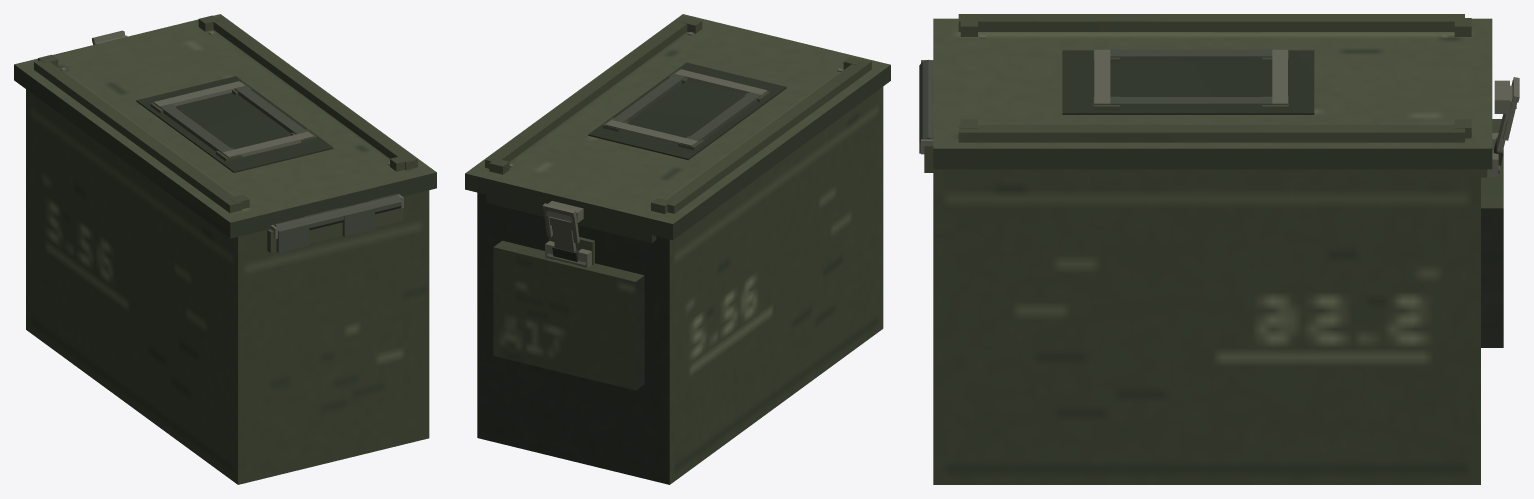
File: military_ammo_can.obj
3 renders of one model, left to right at view 1: azimuth 30°, elevation 25°; view 2: azimuth 150°, elevation 25°; view 3: azimuth 270°, elevation 25°, orthographic. The views are drawn at different scales.
Parts seen in each view (by area): view 1: box, lid, Low_stacking_runner, Shallow_handle_bed, Fixed_hinge_leaf, Hinge_mounting_plate_-_fixed, Lid_knuckle, Handle_left_leaf, Handle_right_leaf, Handle_crossbar_at_rear, Handle_crossbar_at_front, Stacking_corner_stop (+1 smaller); view 2: box, lid, Low_stacking_runner, Shallow_handle_bed, Handle_left_leaf, Handle_right_leaf, Stacking_corner_stop, Handle_crossbar_at_front, Handle_crossbar_at_rear, Latch___over-centre_lever; view 3: box, lid, Low_stacking_runner, Shallow_handle_bed, Handle_left_leaf, Handle_right_leaf, Stacking_corner_stop, Handle_crossbar_at_rear, Handle_crossbar_at_front.
Boxes of the visible parts, box(x1,y1,x2,y2) form: box: box(26, 89, 429, 484); lid: box(14, 14, 436, 238); Low_stacking_runner: box(34, 16, 417, 212); Shallow_handle_bed: box(136, 76, 333, 172); Fixed_hinge_leaf: box(276, 211, 374, 252); Hinge_mounting_plate_-_fixed: box(267, 208, 403, 252); Lid_knuckle: box(305, 194, 401, 230); Handle_left_leaf: box(153, 102, 238, 157); Handle_right_leaf: box(234, 86, 314, 139); Handle_crossbar_at_rear: box(222, 131, 313, 157); Handle_crossbar_at_front: box(154, 81, 244, 106); Stacking_corner_stop: box(38, 15, 409, 209); box: box(477, 86, 883, 484); lid: box(465, 14, 890, 242); Low_stacking_runner: box(485, 15, 871, 213); Shallow_handle_bed: box(588, 62, 786, 160); Handle_left_leaf: box(681, 92, 760, 146); Handle_right_leaf: box(605, 74, 685, 127); Stacking_corner_stop: box(489, 17, 863, 213); Handle_crossbar_at_front: box(606, 120, 697, 145); Handle_crossbar_at_rear: box(675, 69, 767, 95); Latch___over-centre_lever: box(552, 225, 576, 252); box: box(933, 119, 1503, 484); lid: box(933, 18, 1492, 169); Low_stacking_runner: box(958, 14, 1464, 142); Shallow_handle_bed: box(1062, 50, 1314, 114); Handle_left_leaf: box(1110, 49, 1272, 61); Handle_right_leaf: box(1094, 97, 1287, 108); Stacking_corner_stop: box(960, 18, 1471, 138); Handle_crossbar_at_rear: box(1094, 49, 1110, 104); Handle_crossbar_at_front: box(1272, 49, 1287, 104).
Size of the model in its own units: 0.3713 by 0.4679 by 0.7238.
1 material, 1 textured.
